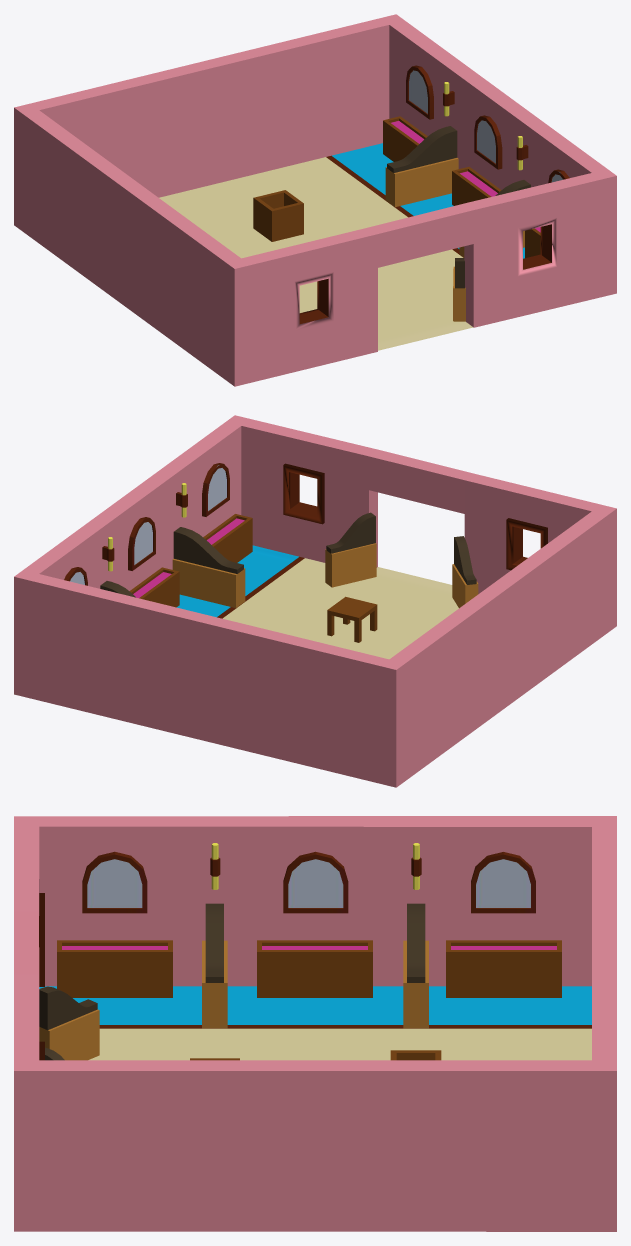
The model's file is RoomInstancesStaticMesh.fbx.
3 views of the same model, one above another, from view 1: azimuth 30°, elevation 25°; view 2: azimuth 150°, elevation 25°; view 3: azimuth 270°, elevation 25° (orthographic). The views are drawn at different scales.
Parts seen in each view (by area): view 1: walls, floor, stall2, mop_bin, cabinet3, cabinet4, mirror4, mirror5, door1; view 2: walls, floor, stall3, door1, cabinet5, door, cabinet4, table, mirror3, mirror4; view 3: walls, floor, cabinet1, cabinet, cabinet2, door, mirror, mirror1, mirror2, stall1, stall, mop_bin.
Boxes of the visible parts, <box> form: walls: <box>14,14,616,386</box>; floor: <box>159,143,524,350</box>; stall2: <box>385,126,458,207</box>; mop_bin: <box>253,190,303,241</box>; cabinet3: <box>383,116,427,161</box>; cabinet4: <box>452,166,501,205</box>; mirror4: <box>474,115,502,169</box>; mirror5: <box>406,65,433,119</box>; door1: <box>453,258,465,321</box>; walls: <box>14,415,616,787</box>; floor: <box>176,545,458,659</box>; stall3: <box>172,527,245,607</box>; door1: <box>325,512,376,587</box>; cabinet5: <box>203,514,252,562</box>; door: <box>452,536,478,608</box>; cabinet4: <box>129,567,179,607</box>; table: <box>327,596,377,642</box>; mirror3: <box>202,463,229,516</box>; mirror4: <box>128,517,155,570</box>; walls: <box>14,816,616,1231</box>; floor: <box>39,986,591,1060</box>; cabinet1: <box>257,940,372,997</box>; cabinet: <box>446,940,561,997</box>; cabinet2: <box>57,940,172,997</box>; door: <box>39,986,99,1060</box>; mirror: <box>82,851,147,913</box>; mirror1: <box>283,851,348,913</box>; mirror2: <box>471,852,535,913</box>; stall1: <box>403,903,428,1028</box>; stall: <box>202,903,227,1028</box>; mop_bin: <box>390,1050,441,1060</box>.
Size of the model in its own units: 24 by 7.1 by 24.
